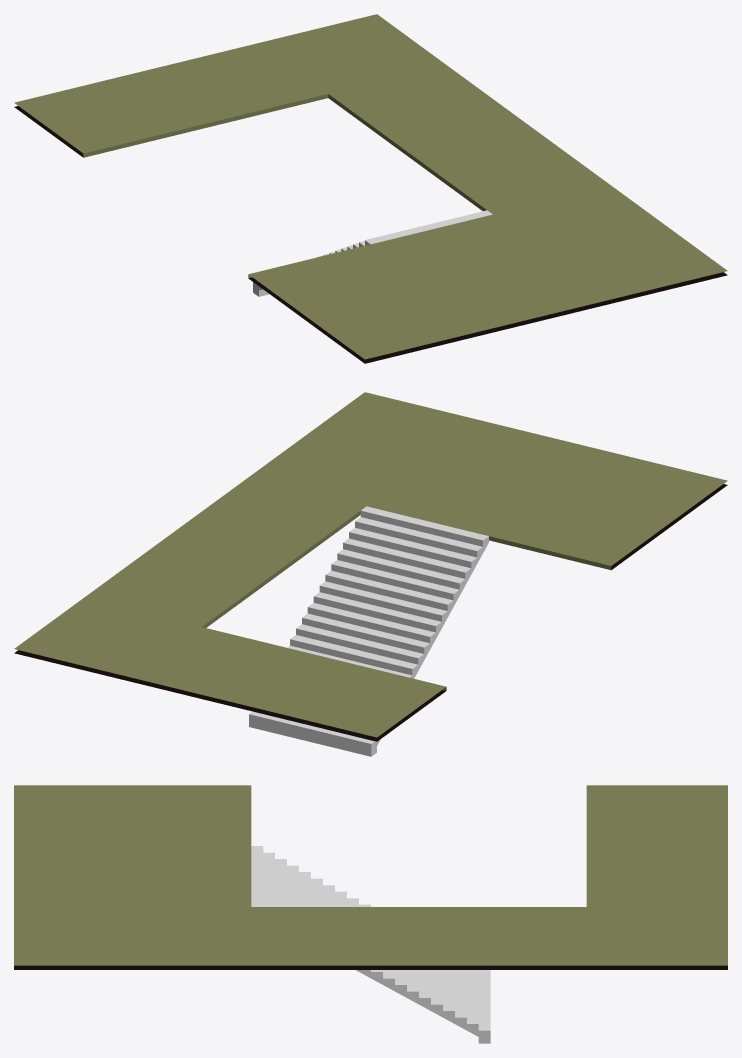
File: Building001_Stairs_2.FBX
3 renders of one model, top to bottom at view 1: azimuth 30°, elevation 25°; view 2: azimuth 150°, elevation 25°; view 3: azimuth 270°, elevation 25°, orthographic.
Visible parts, largest first — view 1: StairsTop, Stairs001; view 2: StairsTop, Stairs001; view 3: StairsTop, Stairs001.
Boxes of the visible parts, x1,y1,x2,y2 form: StairsTop: [14, 14, 727, 363]; Stairs001: [253, 210, 492, 296]; StairsTop: [14, 392, 727, 741]; Stairs001: [249, 506, 488, 756]; StairsTop: [14, 785, 727, 969]; Stairs001: [251, 846, 490, 1043].
Bounding box in the file's own units: 350 × 124 × 587.
